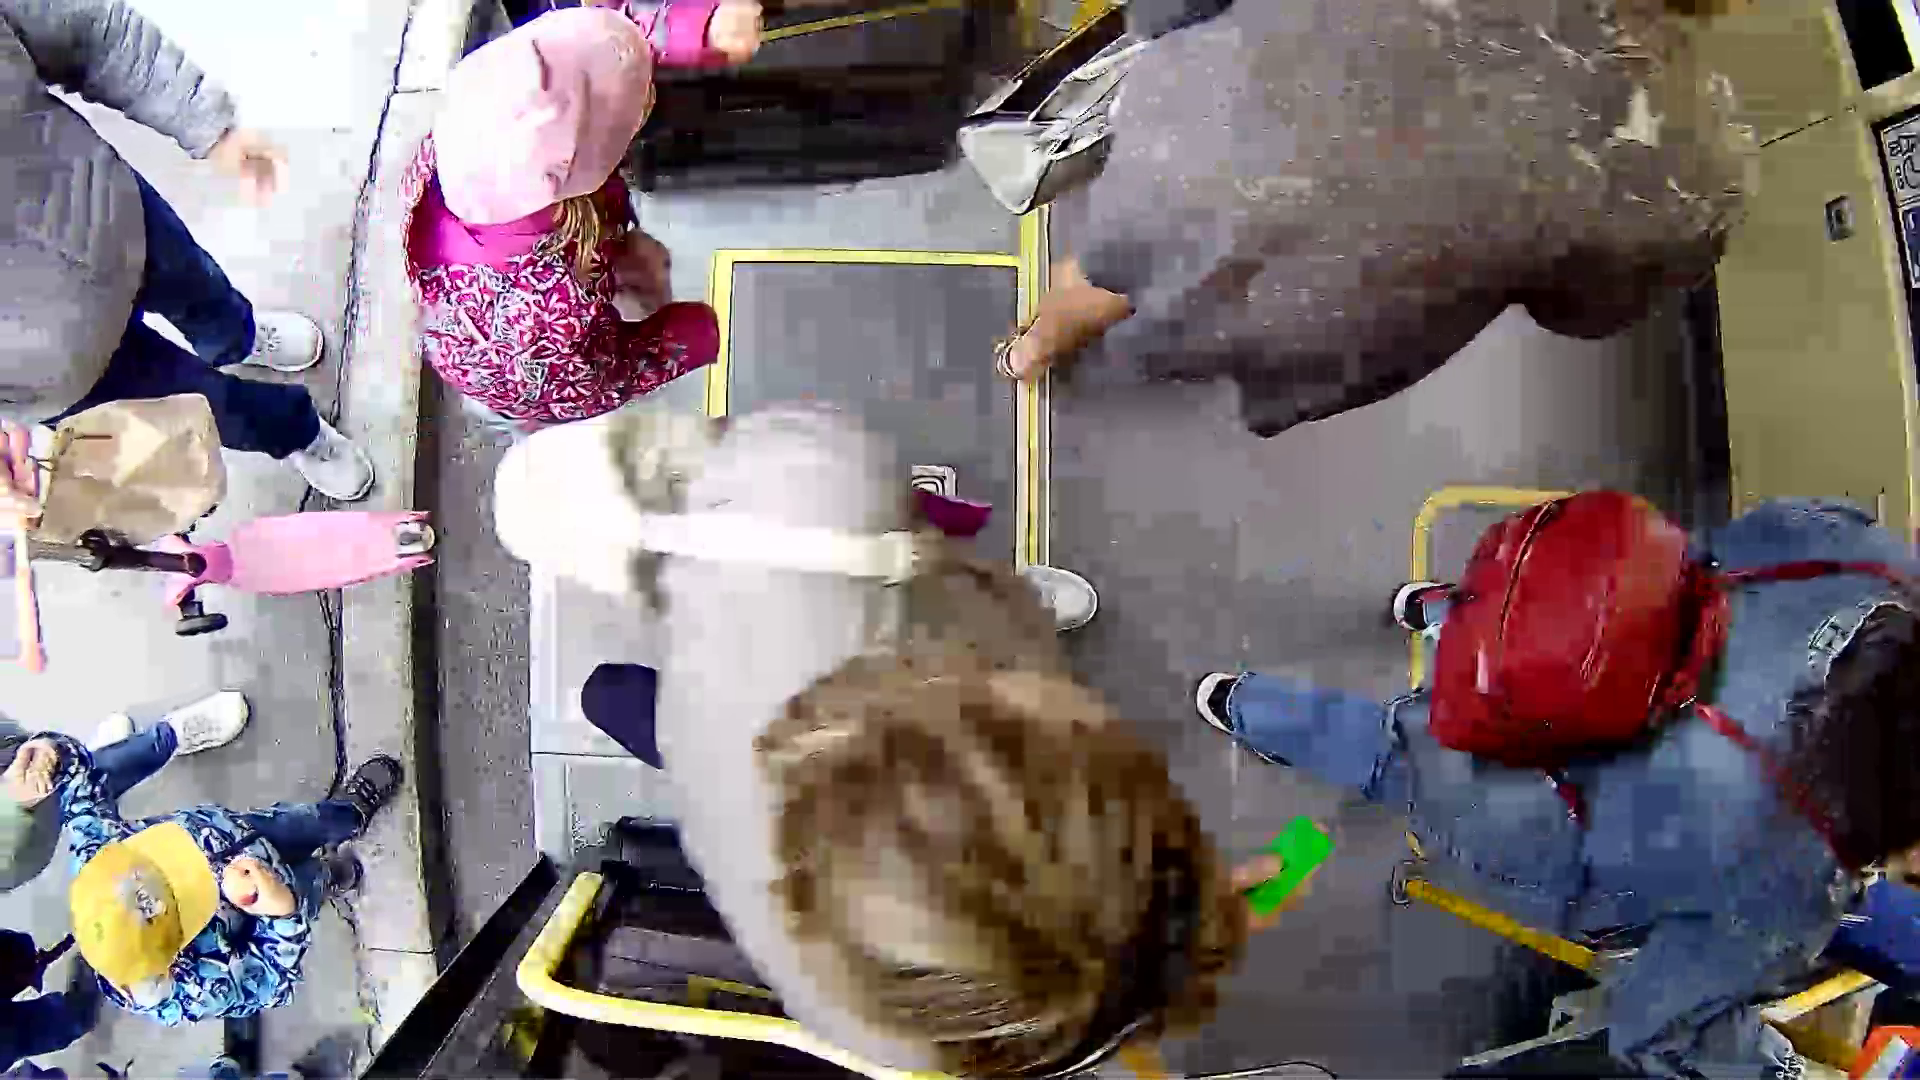person: (536, 437, 1313, 1080), (347, 28, 789, 449)
